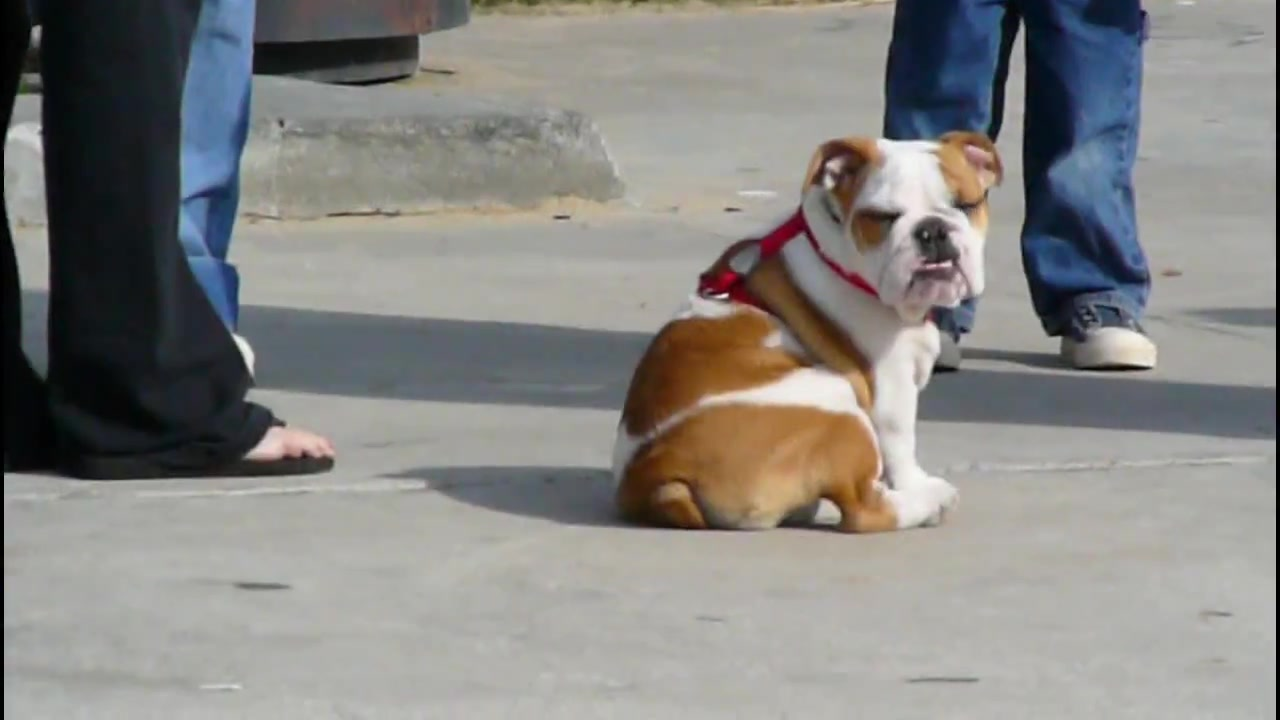dog: (613, 131, 1010, 534)
